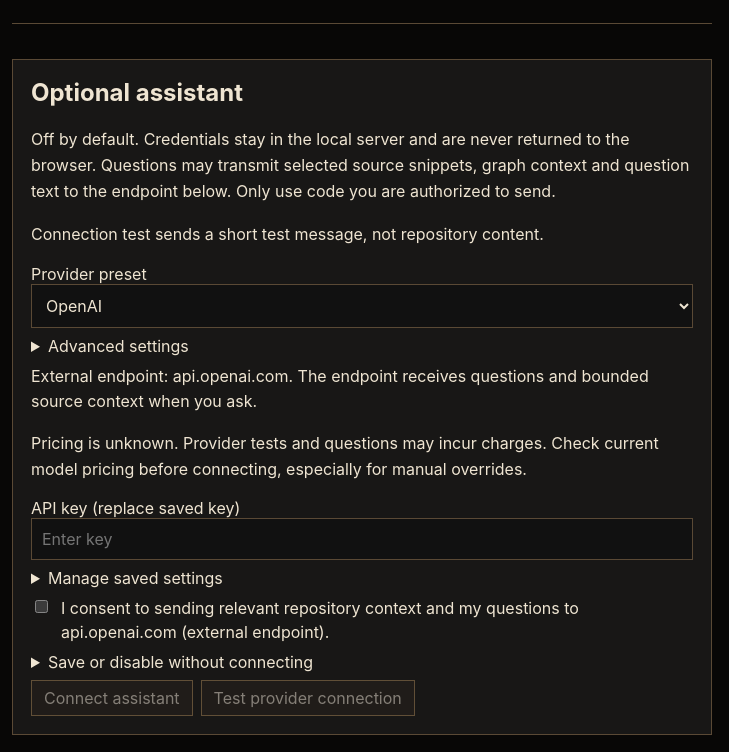
Test case: connects only after consent and tests the saved provider
This screenshot has width=729, height=752.
(page scrolled)
Check: the button "Connect assistant" is disabled, box [31, 680, 193, 716]
Type "example-key" into the password field labelled "API key (replace saved key)".
click(362, 539); type("example-key")  # box [31, 518, 693, 560]
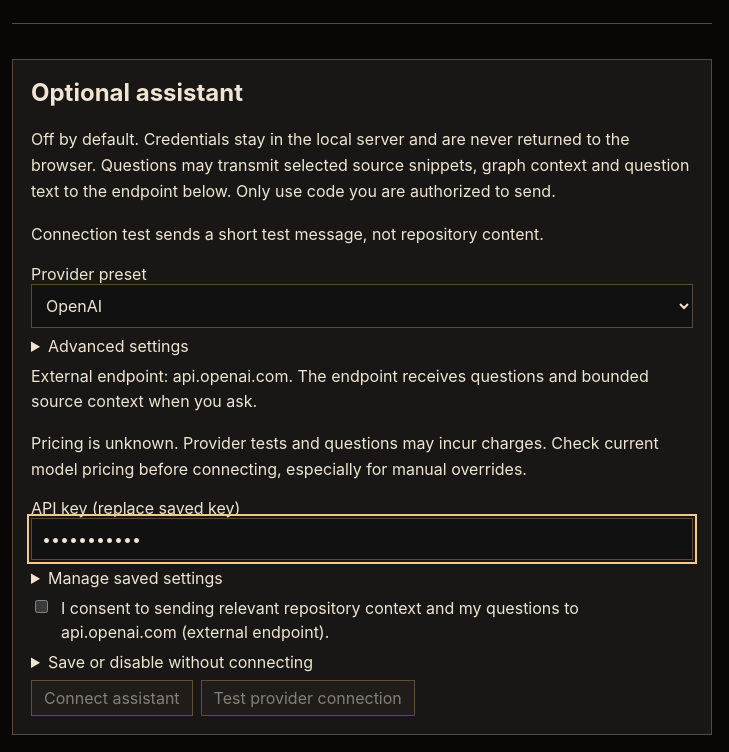
Click the checkbox labelled "consent".
click(42, 607)  # box [35, 600, 48, 613]
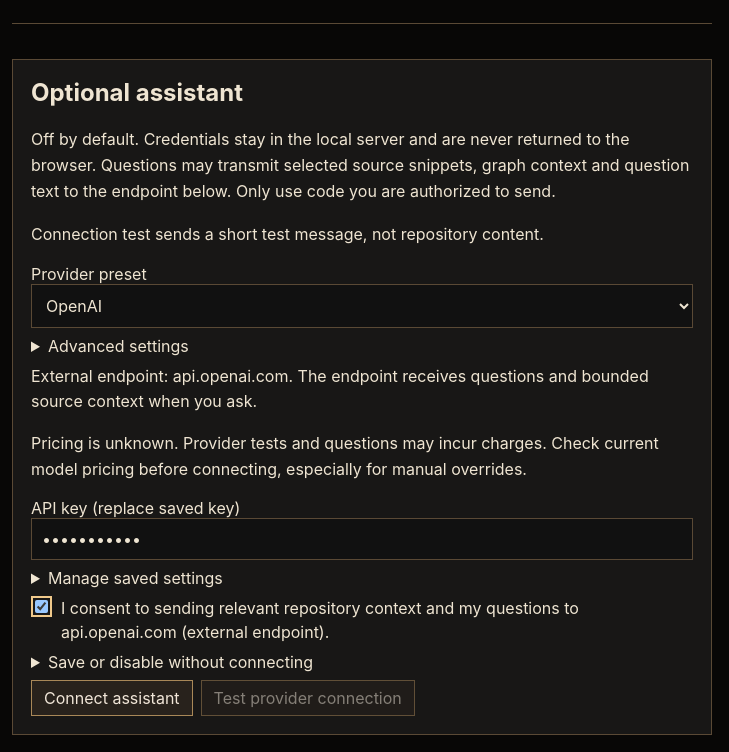
Click the button "Connect assistant".
click(112, 698)  # box [31, 680, 193, 716]
(page scrolled)
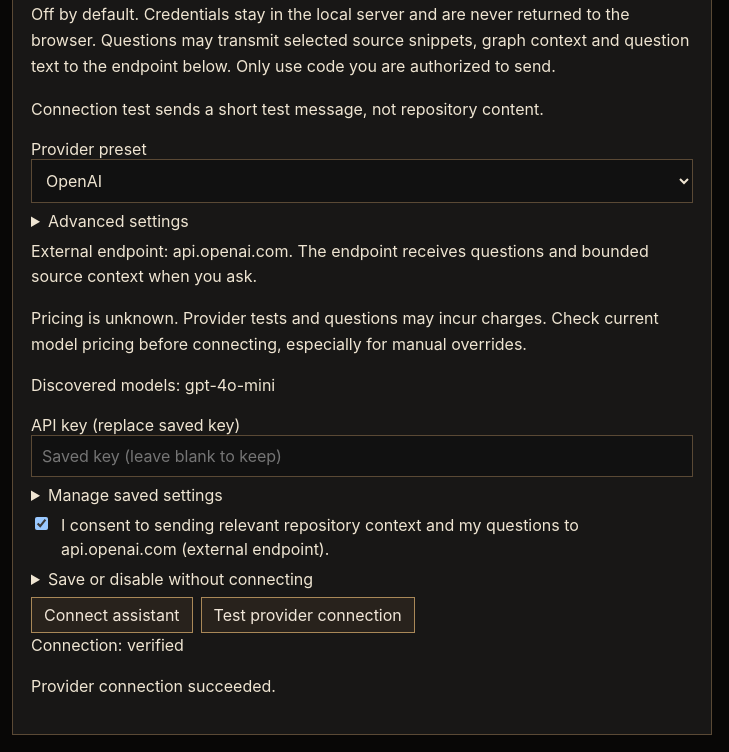
Check: the text "Provider connection succeeded." is shown, box [31, 676, 276, 696]
Check: the text "Connection: verified" is shown, box [31, 635, 184, 655]
